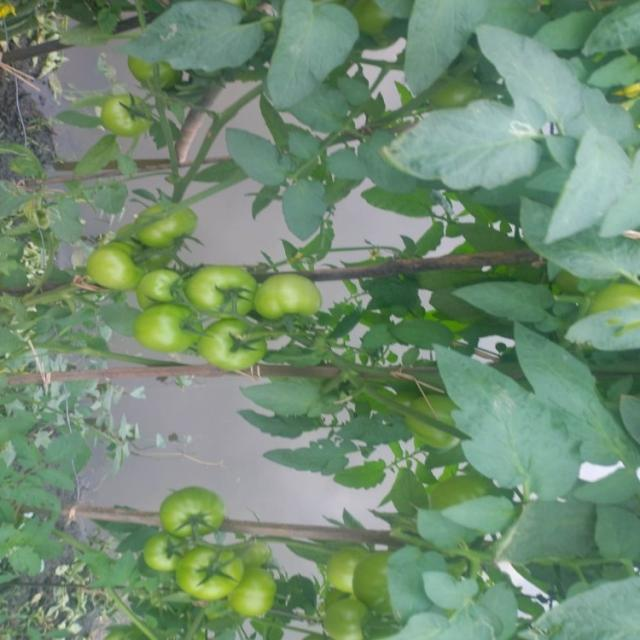tomato: (182, 256, 257, 327), (168, 531, 239, 604), (134, 191, 206, 260), (194, 317, 276, 376), (254, 259, 325, 324), (162, 481, 237, 542), (136, 299, 211, 358), (78, 234, 142, 303), (405, 386, 454, 457), (305, 590, 373, 640), (225, 556, 275, 622), (317, 534, 367, 596), (139, 253, 193, 310), (426, 476, 494, 514), (132, 526, 182, 577), (355, 546, 392, 605), (581, 276, 640, 312), (104, 104, 157, 142)
